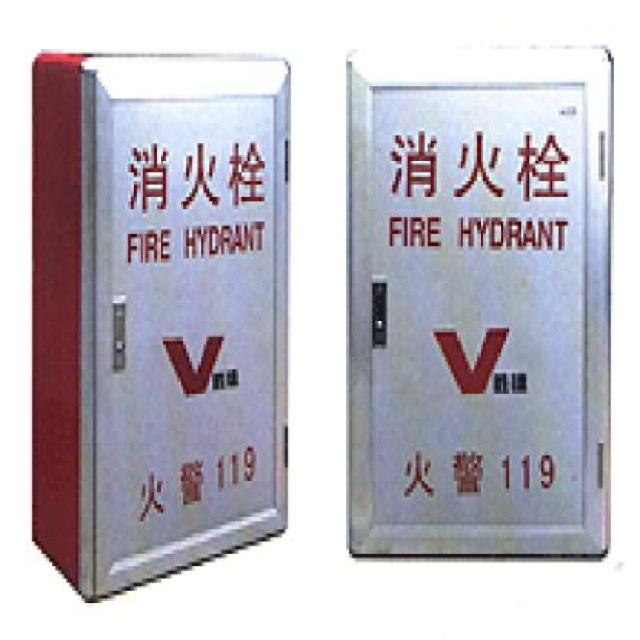firehydrant: (28, 41, 295, 607), (343, 37, 619, 570)
